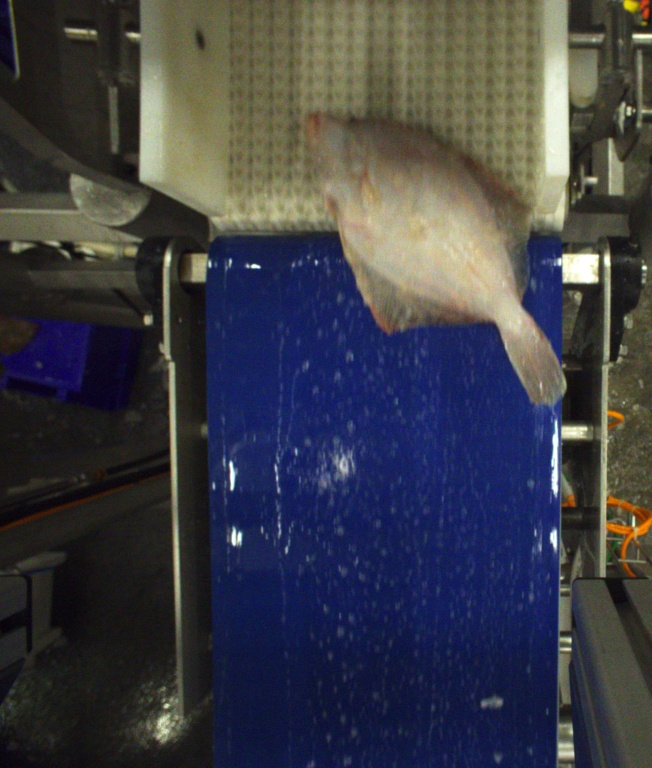PLE: (306, 109, 564, 403)
